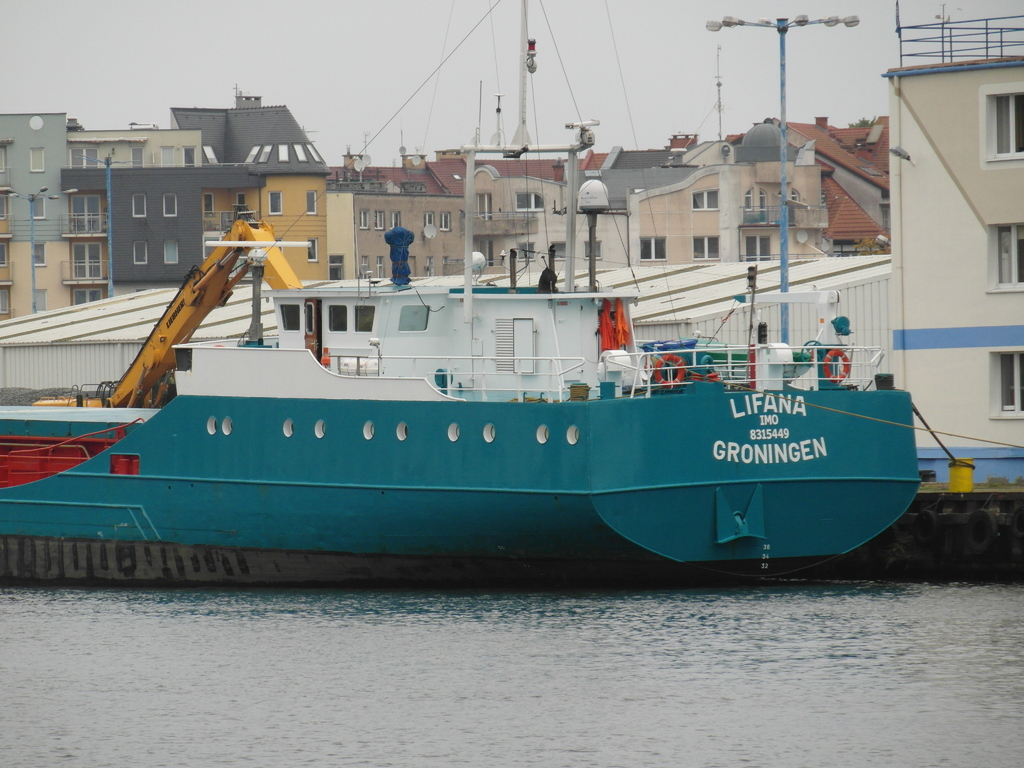boat: (1, 1, 946, 605)
